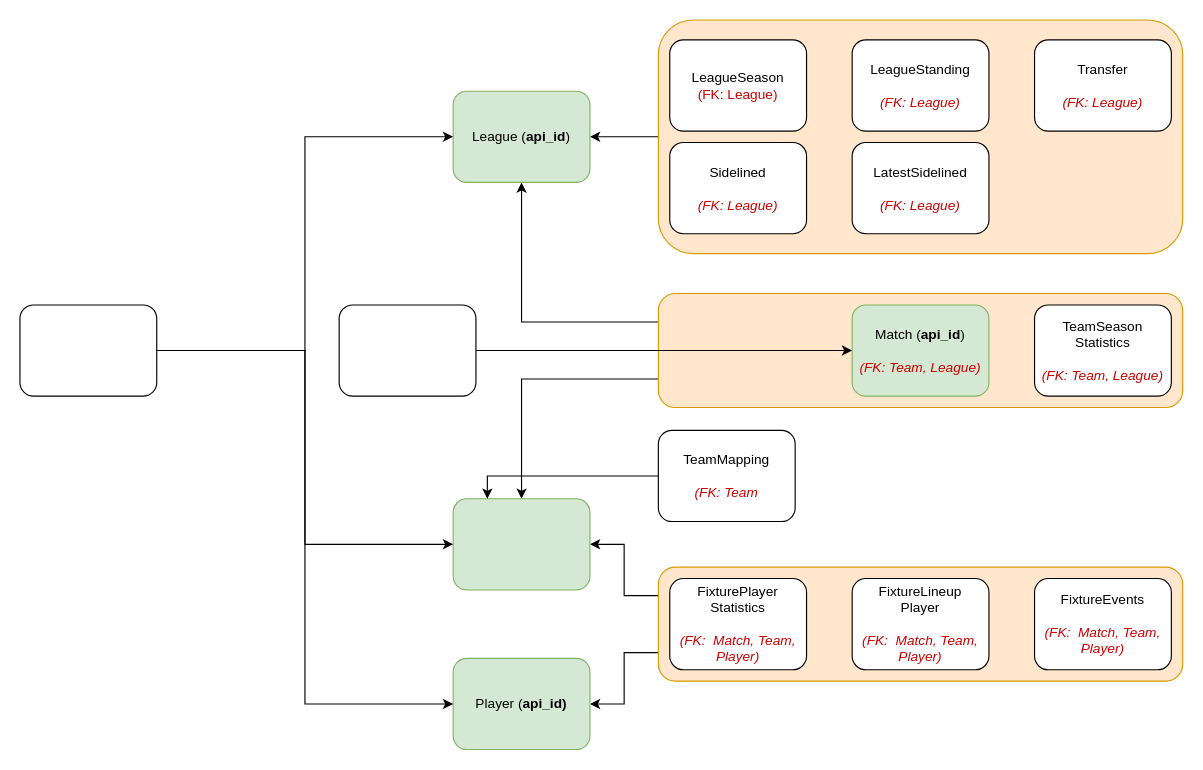
The diagram is 1203 pixels wide and 770 high, and some of its shapes have lost their labels. Here are the shapes that lost their labels. From the top down, the centre of each, then its label:
point (88, 350): PlayerSeason Statistics (FK: Team, League, Player)
point (407, 350): FixtureTeam Statistic (FK: Match, Team)
point (521, 544): Team ( api_id)
